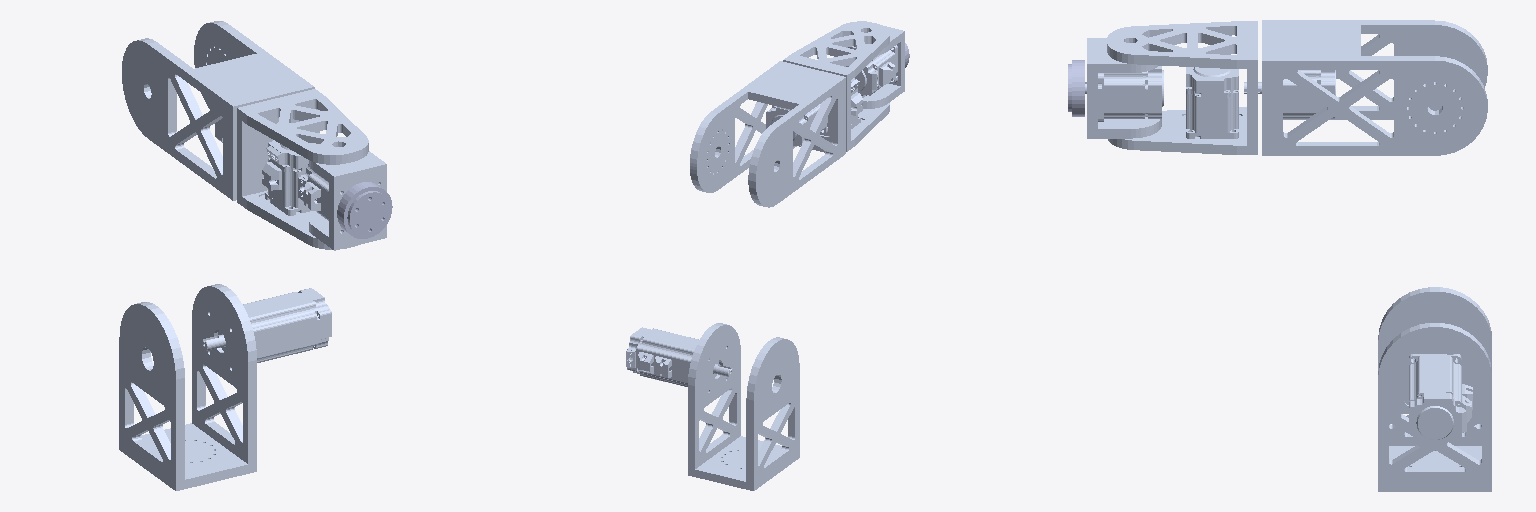
The robot description file, URDF, robot "m1u_description":
<?xml version="1.0" encoding="utf-8"?>
<!-- This URDF was automatically created by SolidWorks to URDF Exporter! Originally created by [author] ([email redacted]) 
     Commit Version: 1.6.0-4-g7f85cfe  Build Version: 1.6.7995.38578
     For more information, please see http://wiki.ros.org/sw_urdf_exporter -->
<robot
  name="m1u_description">

  <!-- ADDED WORLD LINK AND FIXED JOINT -->
  <link name="world" />

  <joint name="world_to_base_link_fixed_joint" type="fixed">
    <origin xyz="0 0 0" rpy="0 0 0" />
    <parent link="world" />
    <child link="base_link" />
  </joint>
  <!-- END OF ADDED SECTION -->

  <link
    name="base_link">
    <inertial>
      <origin
        xyz="-0.1114 0.17591 0.025474"
        rpy="0 0 0" />
      <mass
        value="7.8796" />
      <inertia
        ixx="0.079979"
        ixy="-2.0404E-09"
        ixz="5.7127E-08"
        iyy="0.051141"
        iyz="2.6407E-05"
        izz="0.13042" />
    </inertial>
    <visual>
      <origin
        xyz="0 0 0"
        rpy="0 0 0" />
      <geometry>
        <mesh
          filename="package://m1u_description/meshes/base_link.STL" />
      </geometry>
      <material
        name="">
        <color
          rgba="1 1 1 1" />
      </material>
    </visual>
    <collision>
      <origin
        xyz="0 0 0"
        rpy="0 0 0" />
      <geometry>
        <mesh
          filename="package://m1u_description/meshes/base_link_col.STL" />
      </geometry>
    </collision>
  </link>
  <link
    name="link1">
    <inertial>
      <origin
        xyz="0.0061177 0.00019417 0.087958"
        rpy="0 0 0" />
      <mass
        value="1.6773" />
      <inertia
        ixx="0.0057689"
        ixy="1.639E-07"
        ixz="5.2341E-06"
        iyy="0.0039153"
        iyz="2.0572E-09"
        izz="0.0028596" />
    </inertial>
    <visual>
      <origin
        xyz="0 0 0"
        rpy="0 0 0" />
      <geometry>
        <mesh
          filename="package://m1u_description/meshes/link1.STL" />
      </geometry>
      <material
        name="">
        <color
          rgba="0.86667 0.9098 1 1" />
      </material>
    </visual>
    <collision>
      <origin
        xyz="0 0 0"
        rpy="0 0 0" />
      <geometry>
        <mesh
          filename="package://m1u_description/meshes/link1_col.STL" />
      </geometry>
    </collision>
  </link>
  <joint
    name="j1"
    type="revolute">
    <origin
      xyz="-0.11135 0.15 0.062"
      rpy="0 0 0" />
    <parent
      link="base_link" />
    <child
      link="link1" />
    <axis
      xyz="0 0 1" />
    <limit
      lower="-3"
      upper="3"
      effort="50"
      velocity="1" />
  </joint>
  <link
    name="link2">
    <inertial>
      <origin
        xyz="0.057214 9.84E-05 0.16426"
        rpy="0 0 0" />
      <mass
        value="3.2856" />
      <inertia
        ixx="0.051188"
        ixy="1.6038E-07"
        ixz="-9.1502E-06"
        iyy="0.047303"
        iyz="5.751E-09"
        izz="0.004433" />
    </inertial>
    <visual>
      <origin
        xyz="0 0 0"
        rpy="0 0 0" />
      <geometry>
        <mesh
          filename="package://m1u_description/meshes/link2.STL" />
      </geometry>
      <material
        name="">
        <color
          rgba="0.86667 0.9098 1 1" />
      </material>
    </visual>
    <collision>
      <origin
        xyz="0 0 0"
        rpy="0 0 0" />
      <geometry>
        <mesh
          filename="package://m1u_description/meshes/link2_col.STL" />
      </geometry>
    </collision>
  </link>
  <joint
    name="j2"
    type="revolute">
    <origin
      xyz="-0.054 0 0.1445"
      rpy="0 0 0" />
    <parent
      link="link1" />
    <child
      link="link2" />
    <axis
      xyz="1 0 0" />
    <limit
      lower="-2"
      upper="2"
      effort="50"
      velocity="1" />
  </joint>
  <link
    name="link3">
    <inertial>
      <origin
        xyz="0.039376 -0.092498 0.0077437"
        rpy="0 0 0" />
      <mass
        value="1.9327" />
      <inertia
        ixx="0.0084639"
        ixy="-5.5424E-08"
        ixz="9.6769E-10"
        iyy="0.0027233"
        iyz="1.0935E-05"
        izz="0.0069108" />
    </inertial>
    <visual>
      <origin
        xyz="0 0 0"
        rpy="0 0 0" />
      <geometry>
        <mesh
          filename="package://m1u_description/meshes/link3.STL" />
      </geometry>
      <material
        name="">
        <color
          rgba="0.86667 0.9098 1 1" />
      </material>
    </visual>
    <collision>
      <origin
        xyz="0 0 0"
        rpy="0 0 0" />
      <geometry>
        <mesh
          filename="package://m1u_description/meshes/link3_col.STL" />
      </geometry>
    </collision>
  </link>
  <joint
    name="j3"
    type="revolute">
    <origin
      xyz="0.0145 0 0.34"
      rpy="0 0 0" />
    <parent
      link="link2" />
    <child
      link="link3" />
    <axis
      xyz="-1 0 0" />
    <limit
      lower="-2"
      upper="2"
      effort="50"
      velocity="2" />
  </joint>
  <link
    name="link4">
    <inertial>
      <origin
        xyz="-0.00012966 -0.062233 -0.0040436"
        rpy="0 0 0" />
      <mass
        value="1.1685" />
      <inertia
        ixx="0.0019881"
        ixy="9.6769E-10"
        ixz="-6.3547E-08"
        iyy="0.0014229"
        iyz="5.672E-06"
        izz="0.0023972" />
    </inertial>
    <visual>
      <origin
        xyz="0 0 0"
        rpy="0 0 0" />
      <geometry>
        <mesh
          filename="package://m1u_description/meshes/link4.STL" />
      </geometry>
      <material
        name="">
        <color
          rgba="0.86667 0.9098 1 1" />
      </material>
    </visual>
    <collision>
      <origin
        xyz="0 0 0"
        rpy="0 0 0" />
      <geometry>
        <mesh
          filename="package://m1u_description/meshes/link4_col.STL" />
      </geometry>
    </collision>
  </link>
  <joint
    name="j4"
    type="revolute">
    <origin
      xyz="0.0395 -0.197 0"
      rpy="0 0 0" />
    <parent
      link="link3" />
    <child
      link="link4" />
    <axis
      xyz="0 -1 0" />
    <limit
      lower="-3"
      upper="3"
      effort="50"
      velocity="3" />
  </joint>
  <link
    name="link5">
    <inertial>
      <origin
        xyz="-0.00027872 -0.01747 -0.060001"
        rpy="0 0 0" />
      <mass
        value="0.5436" />
      <inertia
        ixx="0.00028276"
        ixy="-6.3547E-08"
        ixz="-9.6769E-10"
        iyy="0.00029666"
        iyz="-5.5424E-08"
        izz="0.00041219" />
    </inertial>
    <visual>
      <origin
        xyz="0 0 0"
        rpy="0 0 0" />
      <geometry>
        <mesh
          filename="package://m1u_description/meshes/link5.STL" />
      </geometry>
      <material
        name="">
        <color
          rgba="0.86667 0.9098 1 1" />
      </material>
    </visual>
    <collision>
      <origin
        xyz="0 0 0"
        rpy="0 0 0" />
      <geometry>
        <mesh
          filename="package://m1u_description/meshes/link5_col.STL" />
      </geometry>
    </collision>
  </link>
  <joint
    name="j5"
    type="revolute">
    <origin
      xyz="0 -0.14976 0.06"
      rpy="0 0 0" />
    <parent
      link="link4" />
    <child
      link="link5" />
    <axis
      xyz="0 0 -1" />
    <limit
      lower="-2"
      upper="2"
      effort="50"
      velocity="3" />
  </joint>
  <link
    name="link6">
    <inertial>
      <origin
        xyz="-1.4988E-15 -0.011336 -6.6613E-16"
        rpy="0 0 0" />
      <mass
        value="0.059887" />
      <inertia
        ixx="1.69E-05"
        ixy="1.7186E-19"
        ixz="1.628E-20"
        iyy="3.0067E-05"
        iyz="6.324E-20"
        izz="1.69E-05" />
    </inertial>
    <visual>
      <origin
        xyz="0 0 0"
        rpy="0 0 0" />
      <geometry>
        <mesh
          filename="package://m1u_description/meshes/link6.STL" />
      </geometry>
      <material
        name="">
        <color
          rgba="0.79216 0.81961 0.93333 1" />
      </material>
    </visual>
    <collision>
      <origin
        xyz="0 0 0"
        rpy="0 0 0" />
      <geometry>
        <mesh
          filename="package://m1u_description/meshes/link6_col.STL" />
      </geometry>
    </collision>
  </link>
  <joint
    name="j6"
    type="revolute">
    <origin
      xyz="0 -0.05 -0.06"
      rpy="0 0 0" />
    <parent
      link="link5" />
    <child
      link="link6" />
    <axis
      xyz="0 -1 0" />
    <limit
      lower="-10"
      upper="10"
      effort="50"
      velocity="8" />
  </joint>
</robot>

--- Facts derived from the render (not from the file) ---
Views: 3 orthographic renders of the robot side by side, from view 1: azimuth 30°, elevation 25°; view 2: azimuth 150°, elevation 25°; view 3: azimuth 270°, elevation 25°.
Model m1u_description with 8 links and 7 joints (6 revolute, 1 fixed), rooted at world, posed every joint at zero.
Links seen in each view (by area): view 1: link1, link3, link4, link5, link6; view 2: link1, link3, link4, link5; view 3: link3, link1, link4, link5, link6.
Boxes of the visible links, x1=… form: link1: x1=119, y1=284, x2=331, y2=490; link3: x1=122, y1=21, x2=314, y2=200; link4: x1=237, y1=89, x2=368, y2=249; link5: x1=298, y1=151, x2=386, y2=250; link6: x1=337, y1=182, x2=392, y2=238; link1: x1=626, y1=323, x2=799, y2=490; link3: x1=690, y1=61, x2=845, y2=207; link4: x1=783, y1=21, x2=889, y2=151; link5: x1=846, y1=21, x2=904, y2=108; link3: x1=1244, y1=20, x2=1487, y2=155; link1: x1=1378, y1=287, x2=1491, y2=491; link4: x1=1107, y1=21, x2=1257, y2=154; link5: x1=1085, y1=38, x2=1163, y2=138; link6: x1=1068, y1=60, x2=1084, y2=116.
Size in the robot's own frame: 0.23 by 0.4838 by 0.542 metres.
5 mesh visuals loaded from 7 distinct referenced files (5 binary STL); not drawn: 2 (reference not matched to a file when rendering).